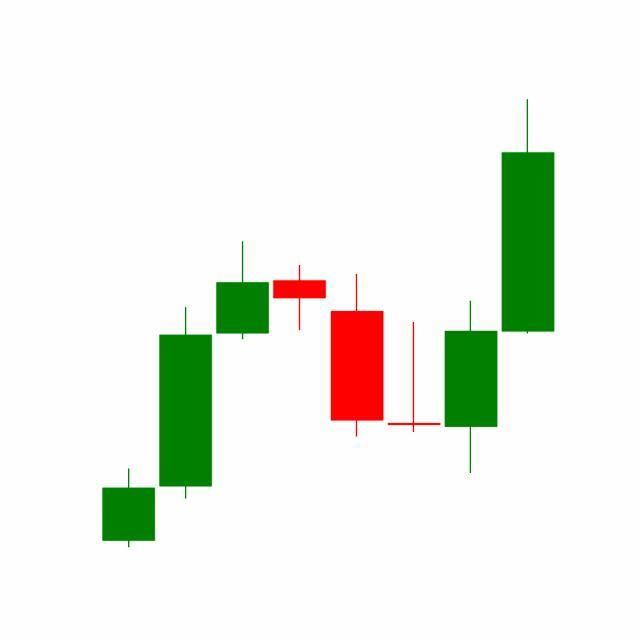Morning Star: (328, 272, 500, 476)
